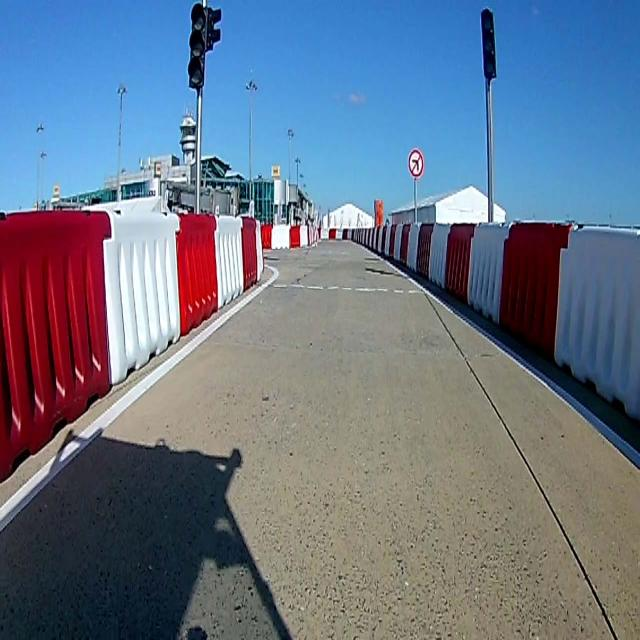soladonulmez: (409, 146, 425, 180)
